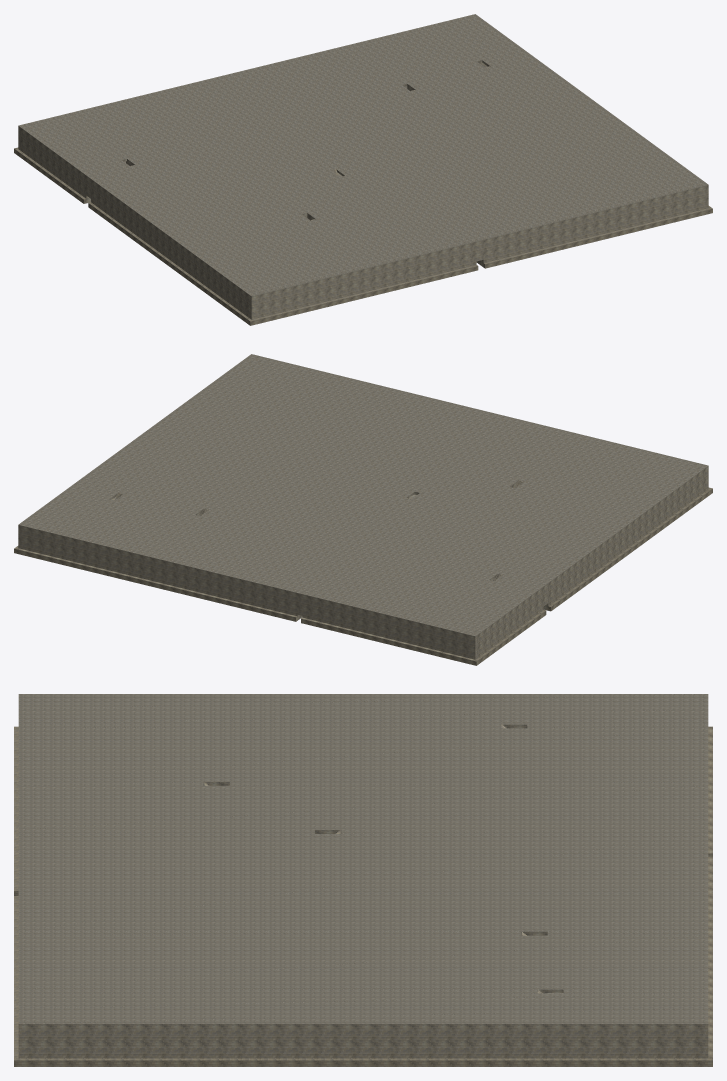
The model's file is fort-base.fort-v1.lod0.glb.
The picture shows the model from 3 angles, top to bottom: view 1: azimuth 30°, elevation 25°; view 2: azimuth 150°, elevation 25°; view 3: azimuth 270°, elevation 25°; orthographic projection. The views are drawn at different scales.
Parts seen in each view (by area): view 1: fort-base; view 2: fort-base; view 3: fort-base.
Part boxes in pixels (x1,y1,x2,y2): fort-base: (14, 14, 712, 325); fort-base: (14, 354, 712, 665); fort-base: (14, 694, 712, 1066).
Bounding box in the file's own units: 174 × 10 × 154.
4 materials, 4 textured.
